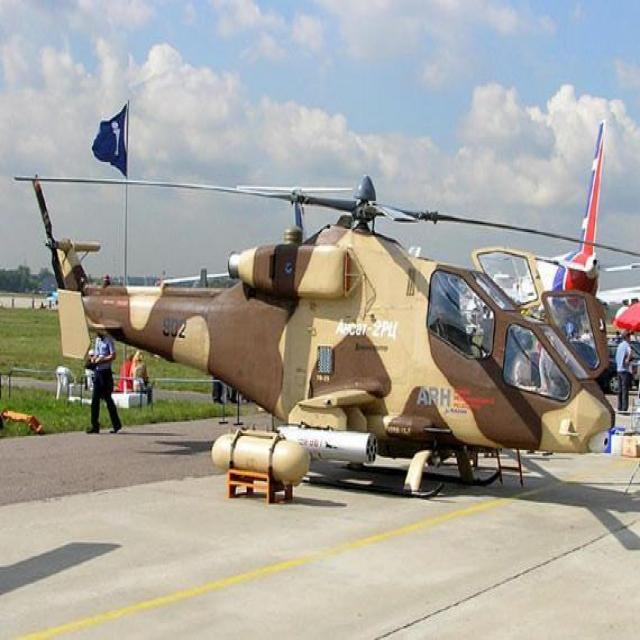MIL_HELO: (15, 140, 640, 512)
